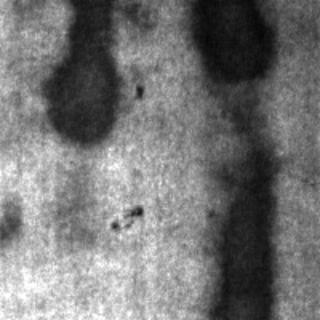patches: (204, 125, 280, 318), (41, 0, 122, 146), (180, 0, 278, 92)
